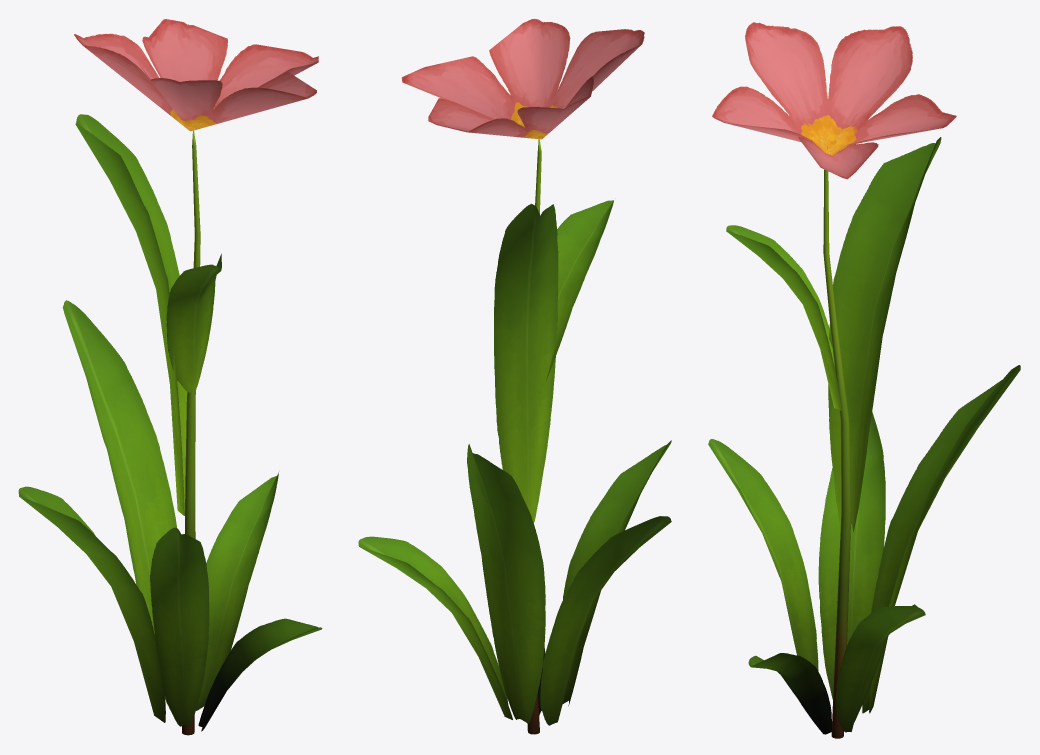
The model's file is Flower_3_Single.glb.
The picture shows the model from 3 angles, left to right: view 1: azimuth 30°, elevation 25°; view 2: azimuth 150°, elevation 25°; view 3: azimuth 270°, elevation 25°; orthographic projection. The views are drawn at different scales.
Visible parts, largest first — view 1: Flower_3_Single; view 2: Flower_3_Single; view 3: Flower_3_Single.
Part boxes in pixels (<box>): Flower_3_Single: <box>18,19,322,735</box>; Flower_3_Single: <box>358,18,671,734</box>; Flower_3_Single: <box>708,22,1020,738</box>.
Size of the model in its own units: 0.9066 by 2.07 by 0.8775.
2 materials, 2 textured.
